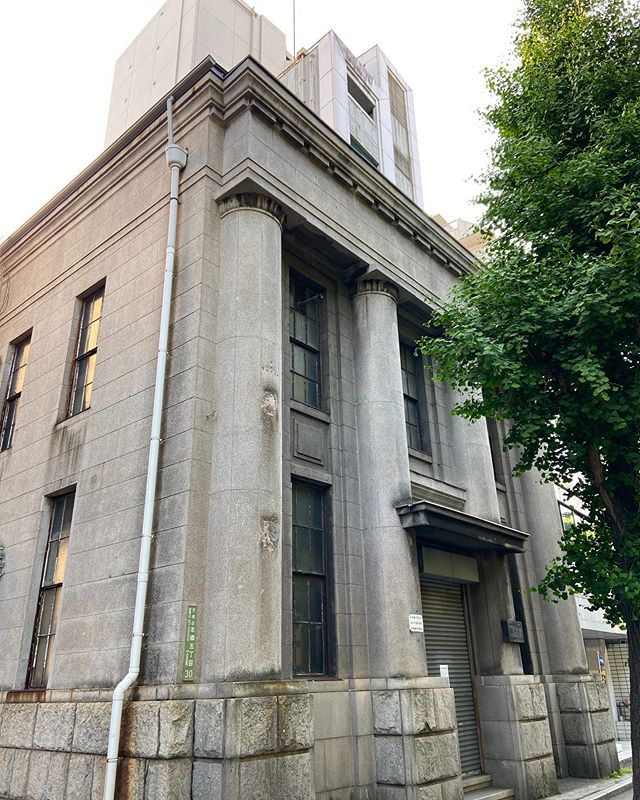building: (4, 57, 517, 799)
tree: (499, 14, 640, 581)
